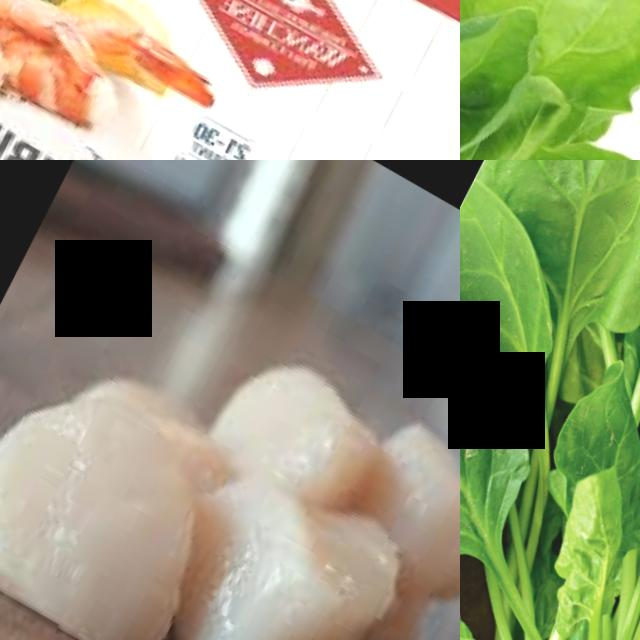sea scallops: (0, 348, 252, 640), (166, 444, 423, 640), (201, 318, 405, 523)
shrimp: (73, 0, 228, 109), (0, 0, 80, 120)
spinach: (460, 291, 541, 570), (473, 160, 640, 265), (460, 176, 556, 331), (460, 0, 547, 160), (473, 0, 640, 68)
